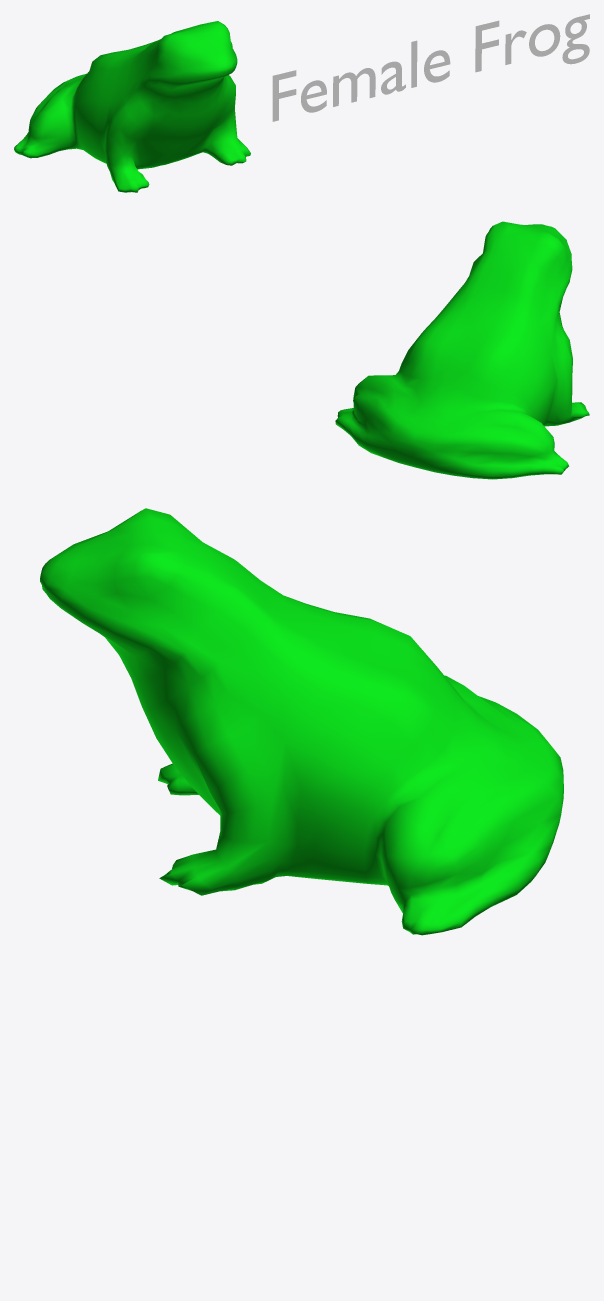
The model's file is femalefrog.gltf.
3 renders of one model, top to bottom at view 1: azimuth 30°, elevation 25°; view 2: azimuth 150°, elevation 25°; view 3: azimuth 270°, elevation 25°, orthographic. The views are drawn at different scales.
Parts seen in each view (by area): view 1: Ceramic-frog_low-poly, Text; view 2: Ceramic-frog_low-poly; view 3: Ceramic-frog_low-poly.
Boxes of the visible parts, x1,y1,x2,y2 form: Ceramic-frog_low-poly: (14, 21, 250, 192); Text: (272, 14, 589, 121); Ceramic-frog_low-poly: (335, 221, 589, 479); Ceramic-frog_low-poly: (40, 508, 563, 935).
Bounding box in the file's own units: 0.6317 × 0.1874 × 0.2627.
